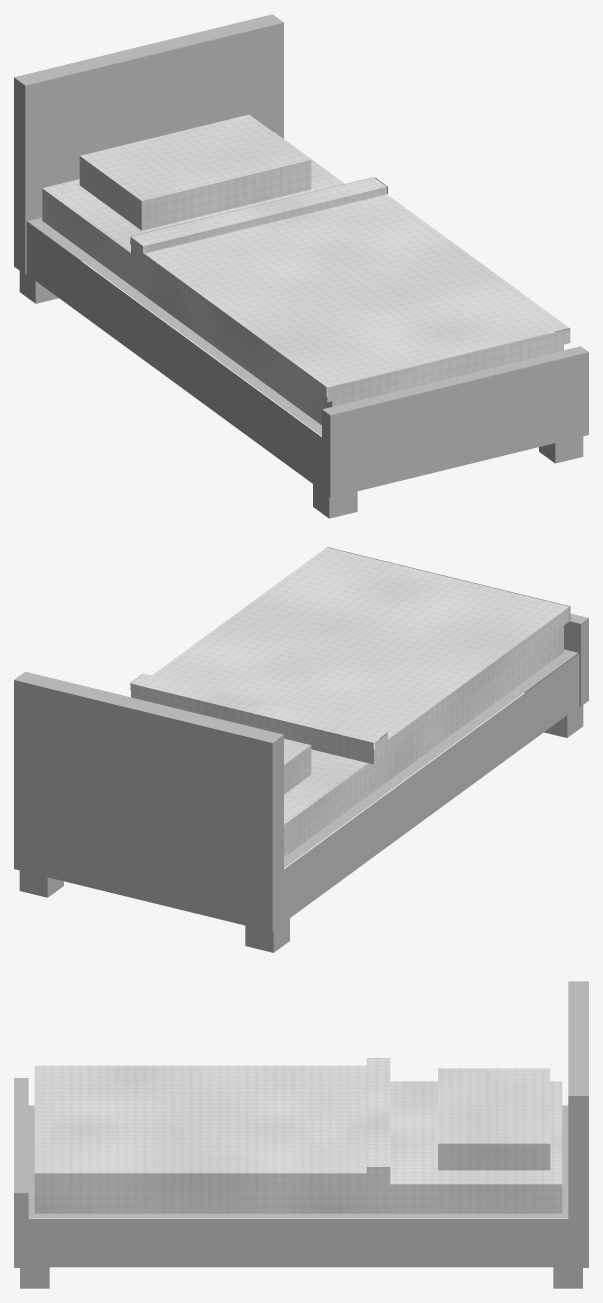
The model's file is bed.obj.
3 renders of one model, top to bottom at view 1: azimuth 30°, elevation 25°; view 2: azimuth 150°, elevation 25°; view 3: azimuth 270°, elevation 25°, orthographic. The views are drawn at different scales.
Visible parts, largest first — view 1: bed; view 2: bed; view 3: bed.
Boxes of the visible parts, x1=… form: bed: x1=14, y1=14, x2=588, y2=518; bed: x1=14, y1=547, x2=588, y2=952; bed: x1=14, y1=981, x2=588, y2=1288.
Bounding box in the file's own units: 0.916 × 0.72 × 1.94.
